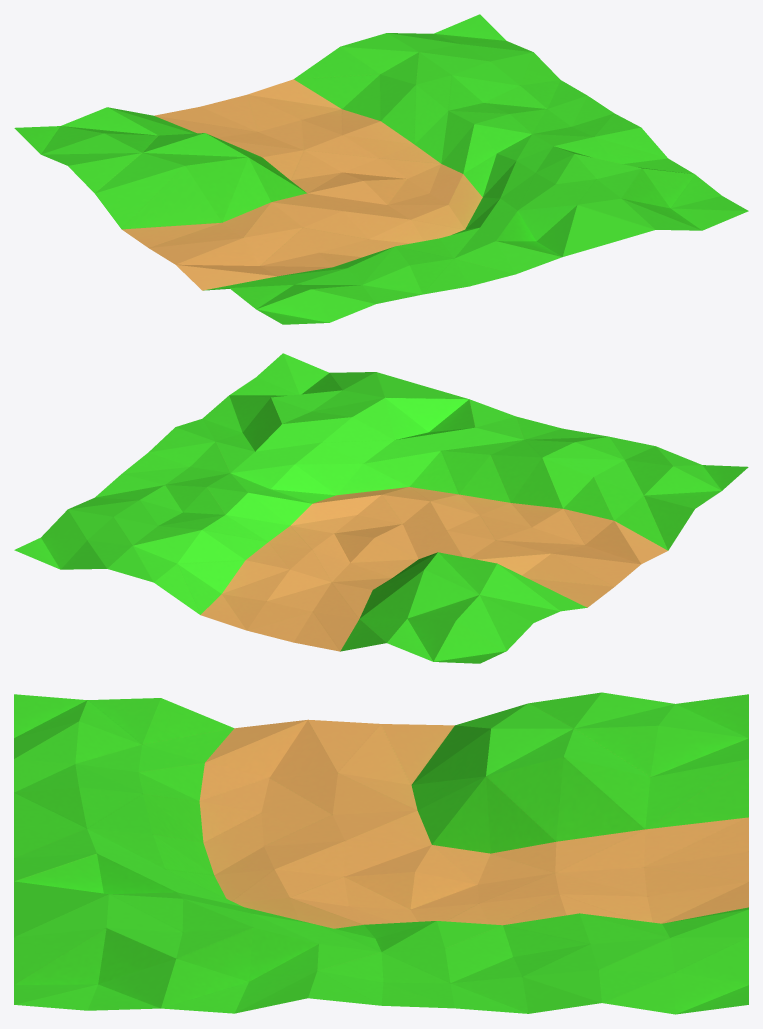
The model's file is road1001.glb.
3 views of the same model, one above another, from view 1: azimuth 30°, elevation 25°; view 2: azimuth 150°, elevation 25°; view 3: azimuth 270°, elevation 25° (orthographic). The views are drawn at different scales.
Visible parts, largest first — view 1: Plain_Left.001; view 2: Plain_Left.001; view 3: Plain_Left.001.
Boxes of the visible parts, x1=… form: Plain_Left.001: x1=14, y1=14, x2=748, y2=324; Plain_Left.001: x1=14, y1=353, x2=748, y2=663; Plain_Left.001: x1=14, y1=692, x2=748, y2=1014.
Size of the model in its own units: 10 by 0.8655 by 10.
Materials: 2 (2 with a texture image).
